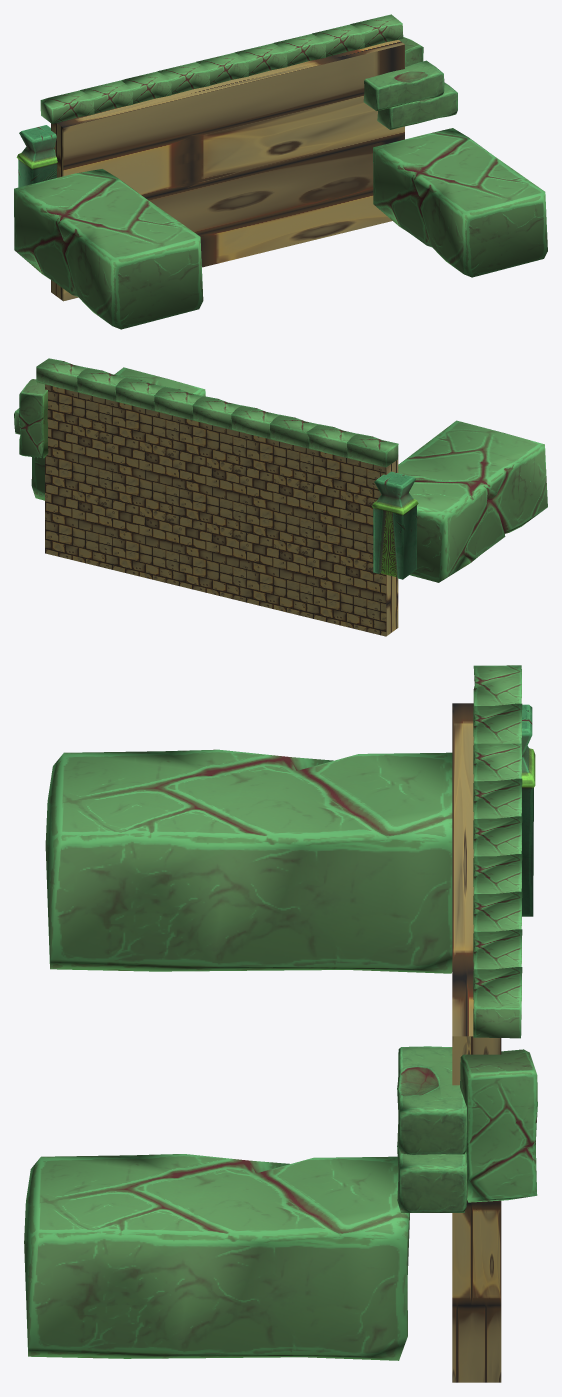
The model's file is walls_north_south2.obj.
3 renders of one model, top to bottom at view 1: azimuth 30°, elevation 25°; view 2: azimuth 150°, elevation 25°; view 3: azimuth 270°, elevation 25°, orthographic. The views are drawn at different scales.
Parts seen in each view (by area): view 1: Puente.000, brick3_low.019, brick3_low.018, brick3_low.013_brick3_low.015, brick2_low.019, columna4_low, brick2_low.018, brick3_low.115; view 2: Puente.000, brick3_low.019, brick3_low.013_brick3_low.015, columna4_low, brick3_low.115, brick3_low.018; view 3: brick3_low.019, brick3_low.018, brick3_low.013_brick3_low.015, Puente.000, brick3_low.115, brick2_low.019, brick2_low.018, columna4_low.
Part boxes in pixels (box(x1,y1,x2,y2)): Puente.000: box(51, 40, 404, 301); brick3_low.019: box(14, 169, 203, 329); brick3_low.018: box(373, 128, 547, 277); brick3_low.013_brick3_low.015: box(40, 14, 403, 123); brick2_low.019: box(363, 60, 444, 110); columna4_low: box(16, 125, 57, 187); brick2_low.018: box(377, 82, 457, 129); brick3_low.115: box(399, 37, 423, 66); Puente.000: box(45, 384, 398, 636); brick3_low.019: box(398, 420, 547, 582); brick3_low.013_brick3_low.015: box(36, 358, 398, 467); columna4_low: box(372, 471, 418, 579); brick3_low.115: box(18, 379, 48, 458); brick3_low.018: box(31, 367, 205, 500); brick3_low.019: box(45, 749, 452, 973); brick3_low.018: box(24, 1154, 409, 1360); brick3_low.013_brick3_low.015: box(473, 665, 522, 1038); Puente.000: box(452, 703, 501, 1382); brick3_low.115: box(460, 1049, 537, 1202); brick2_low.019: box(397, 1046, 466, 1154); brick2_low.018: box(397, 1143, 467, 1212); columna4_low: box(521, 704, 535, 916).
Bounding box in the file's own units: 959 × 403 × 494.
